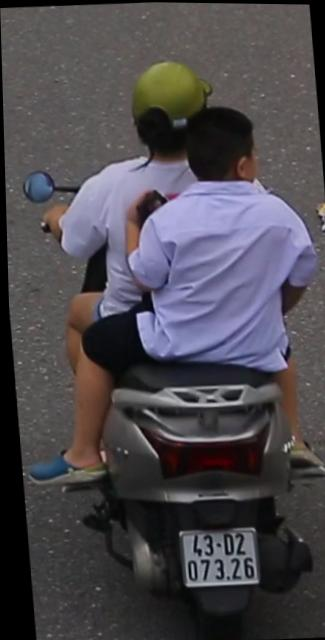LP: (170, 518, 260, 596)
helmet: (123, 53, 216, 165)
no helmet: (177, 94, 273, 200)
